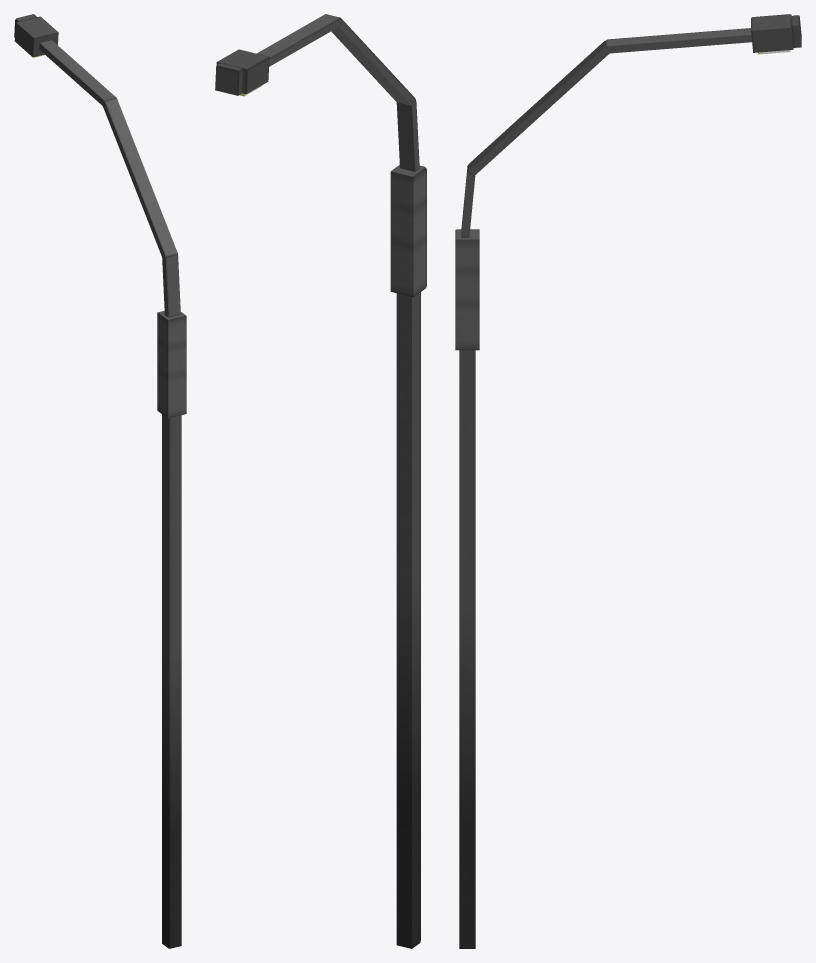
The model's file is street_light.obj.
The picture shows the model from 3 angles, left to right: view 1: azimuth 30°, elevation 25°; view 2: azimuth 150°, elevation 25°; view 3: azimuth 270°, elevation 25°; orthographic projection. The views are drawn at different scales.
Parts seen in each view (by area): view 1: baseModel0, baseModel1, baseModel3, baseModel4, baseModel5, baseModel2; view 2: baseModel0, baseModel1, baseModel3, baseModel4, baseModel2, baseModel5, baseModel6; view 3: baseModel0, baseModel1, baseModel3, baseModel4, baseModel5.
Part boxes in pixels (x1,y1,x2,y2): baseModel0: [162, 320, 181, 948]; baseModel1: [157, 311, 186, 418]; baseModel3: [103, 98, 177, 257]; baseModel4: [33, 38, 116, 106]; baseModel5: [14, 16, 58, 57]; baseModel2: [162, 254, 180, 317]; baseModel0: [396, 292, 420, 948]; baseModel1: [390, 165, 426, 297]; baseModel3: [331, 18, 415, 105]; baseModel4: [246, 14, 340, 70]; baseModel2: [396, 100, 419, 171]; baseModel5: [216, 49, 269, 94]; baseModel6: [215, 63, 243, 95]; baseModel0: [459, 350, 475, 948]; baseModel1: [455, 229, 479, 350]; baseModel3: [467, 40, 611, 176]; baseModel4: [606, 28, 751, 53]; baseModel5: [751, 14, 793, 52].
Bounding box in the file's own units: 0.25 × 7.85 × 2.66.
Materials: 1 (1 with a texture image).
